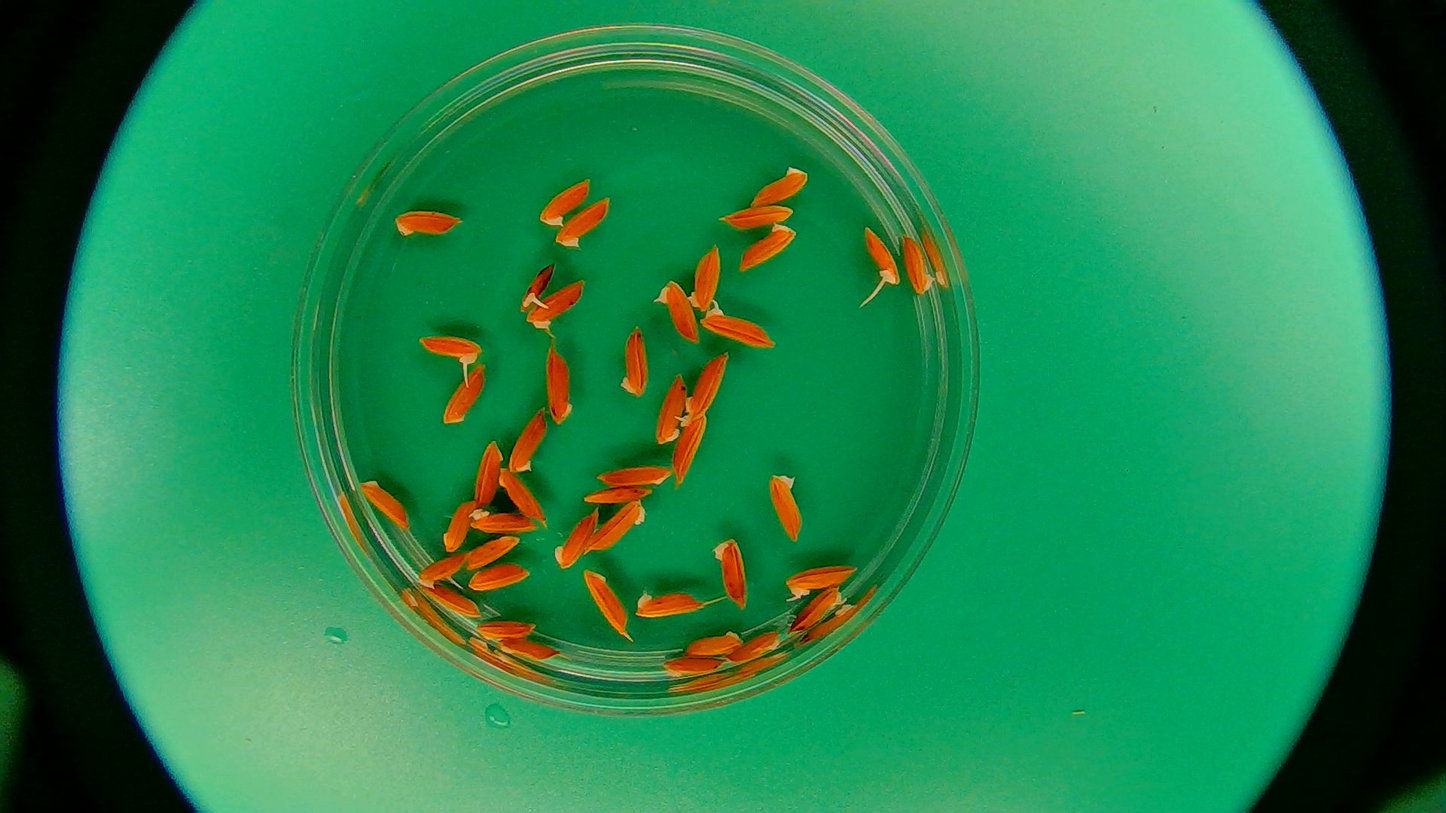no: (580, 496, 650, 553), (552, 507, 609, 572), (742, 162, 816, 212), (710, 530, 758, 607), (353, 477, 410, 534), (496, 464, 546, 528), (581, 570, 630, 635), (736, 221, 795, 271), (536, 176, 592, 227), (417, 584, 482, 626), (618, 322, 652, 401), (459, 533, 526, 573), (413, 550, 480, 589), (673, 413, 709, 485), (447, 364, 490, 424), (468, 440, 505, 509), (676, 621, 743, 659), (510, 411, 550, 474), (688, 352, 724, 422), (464, 502, 538, 536), (596, 458, 676, 489), (462, 563, 534, 597), (557, 202, 609, 249), (792, 589, 845, 635), (526, 281, 581, 324), (770, 475, 804, 541), (547, 353, 578, 425), (631, 590, 700, 621), (902, 233, 935, 297), (728, 626, 781, 665), (493, 635, 569, 662), (578, 480, 654, 507), (468, 616, 545, 642), (693, 247, 724, 311), (394, 209, 460, 239), (657, 373, 684, 445), (442, 493, 474, 553), (718, 205, 797, 229), (657, 655, 727, 676)
yes: (702, 305, 768, 349), (783, 564, 859, 597), (659, 279, 699, 341), (517, 254, 559, 310), (865, 227, 901, 287), (421, 335, 481, 365)
